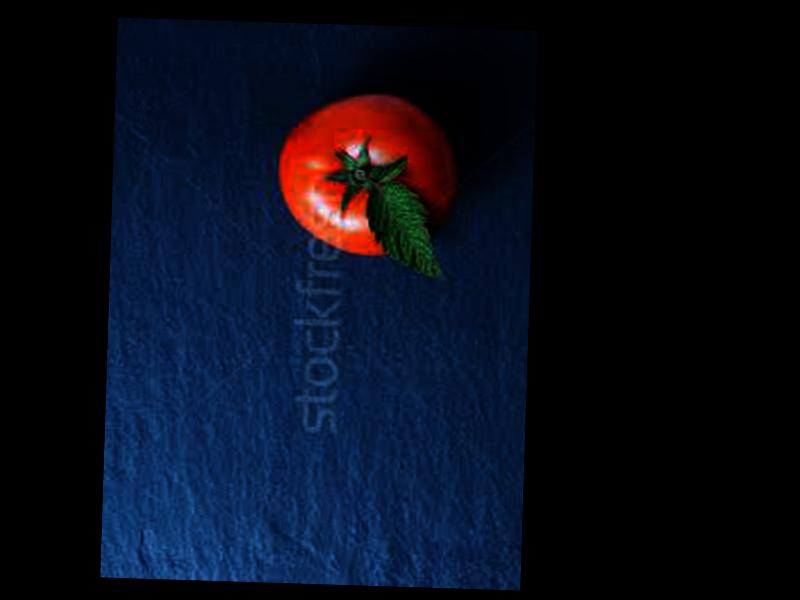Tomato: (276, 91, 457, 259)
